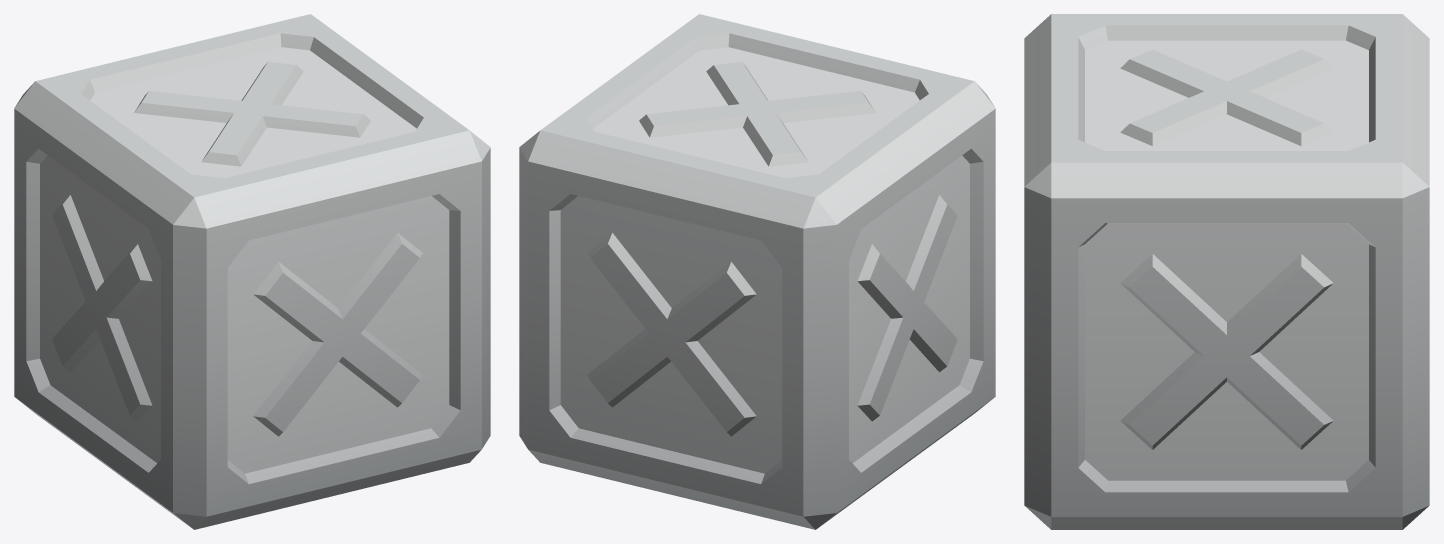
3 renders of one model, left to right at view 1: azimuth 30°, elevation 25°; view 2: azimuth 150°, elevation 25°; view 3: azimuth 270°, elevation 25°, orthographic. The views are drawn at different scales.
Parts seen in each view (by area): view 1: Box_006; view 2: Box_006; view 3: Box_006.
Part boxes in pixels (<box>): Box_006: <box>14,14,490,529</box>; Box_006: <box>519,14,995,529</box>; Box_006: <box>1024,14,1429,529</box>.
Size of the model in its own units: 60 by 60 by 60.
